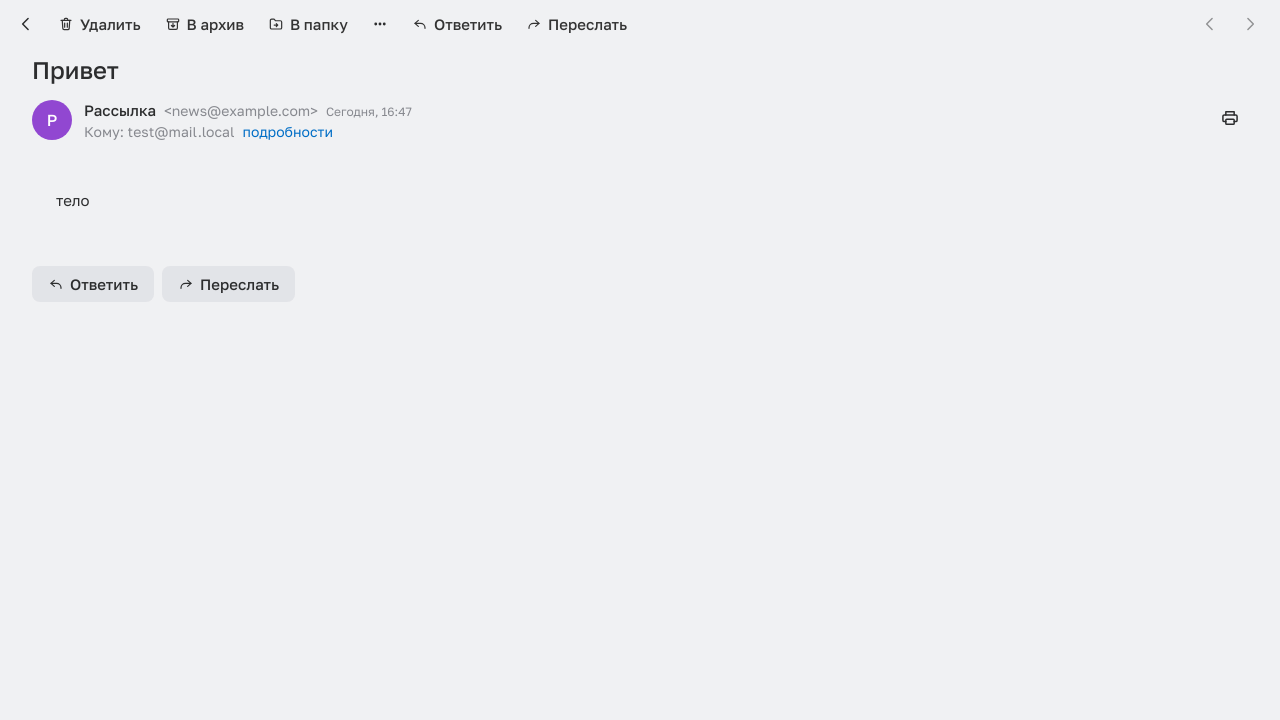
Scenario: исходник не выполняется › <script> и onerror из письма остаются буквами на экране
The width and height of the screenshot is (1280, 720).
Click the button named "Ещё действия" at (380, 24), box [362,6,398,42]
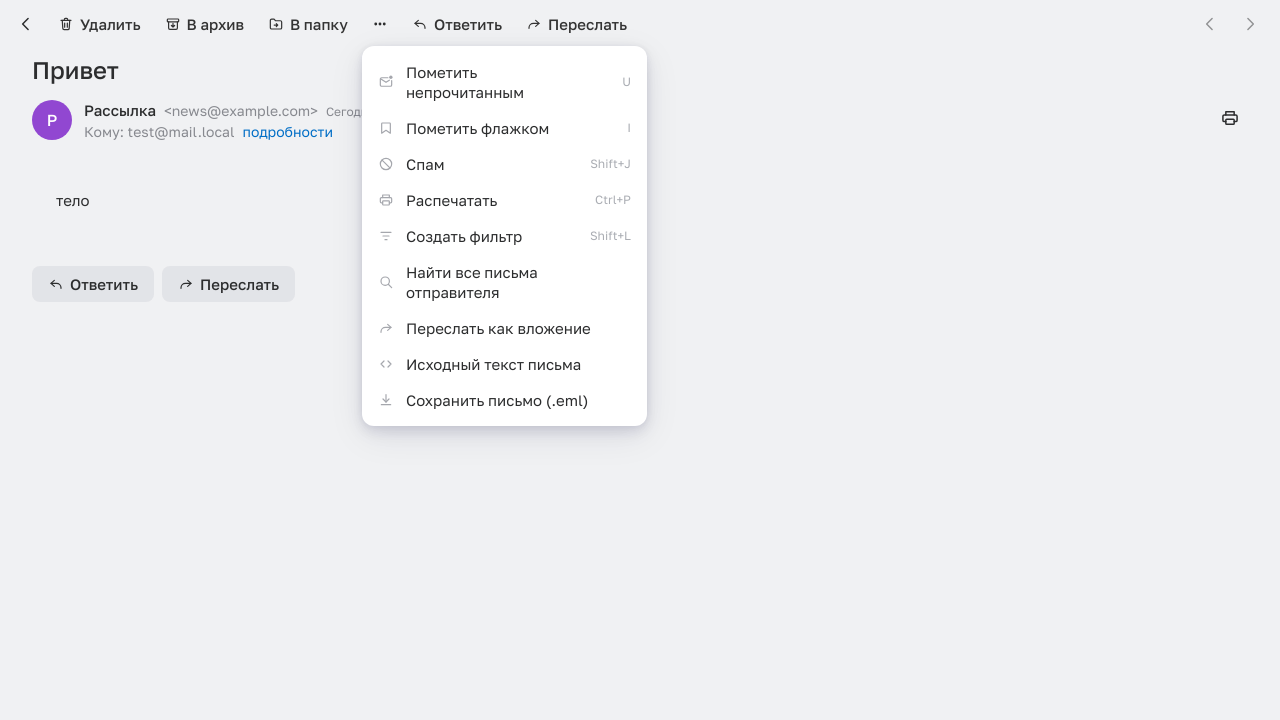
Click the menu item "Исходный текст письма" at (504, 364), box [362,346,647,382]
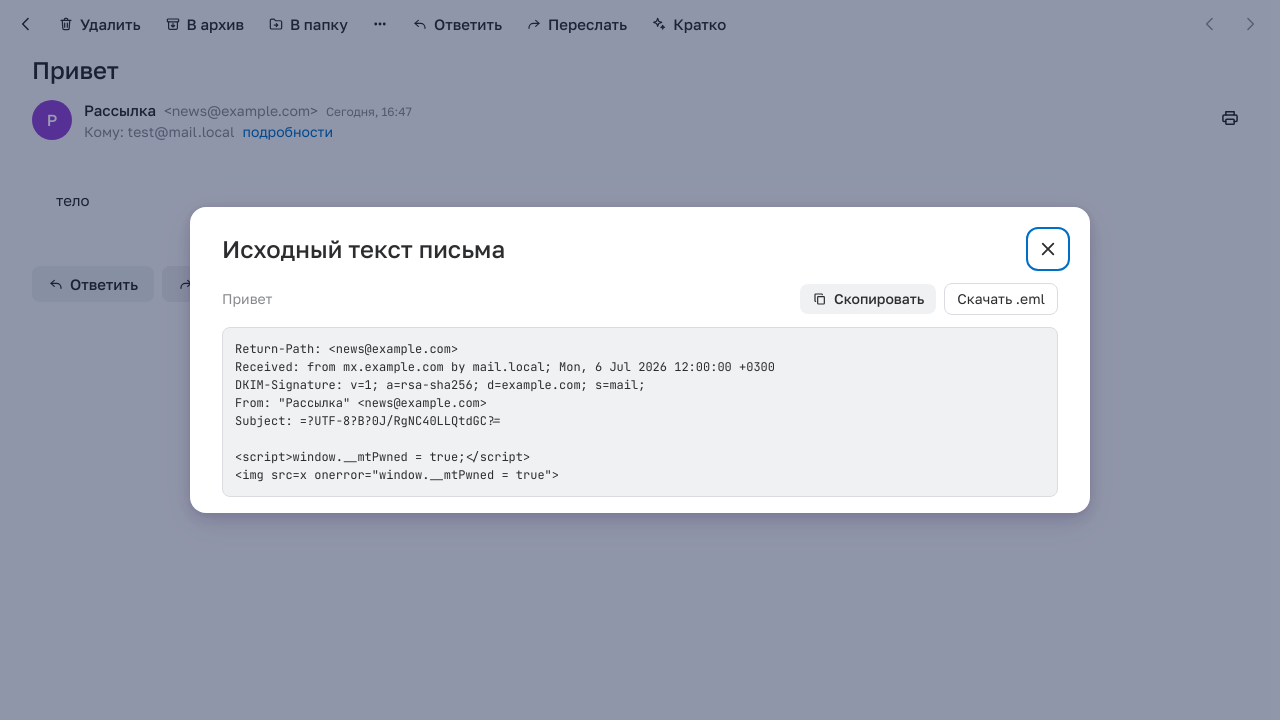
Check: the text with test id "message-source" shows "onerror=", box [235,341,775,483]
